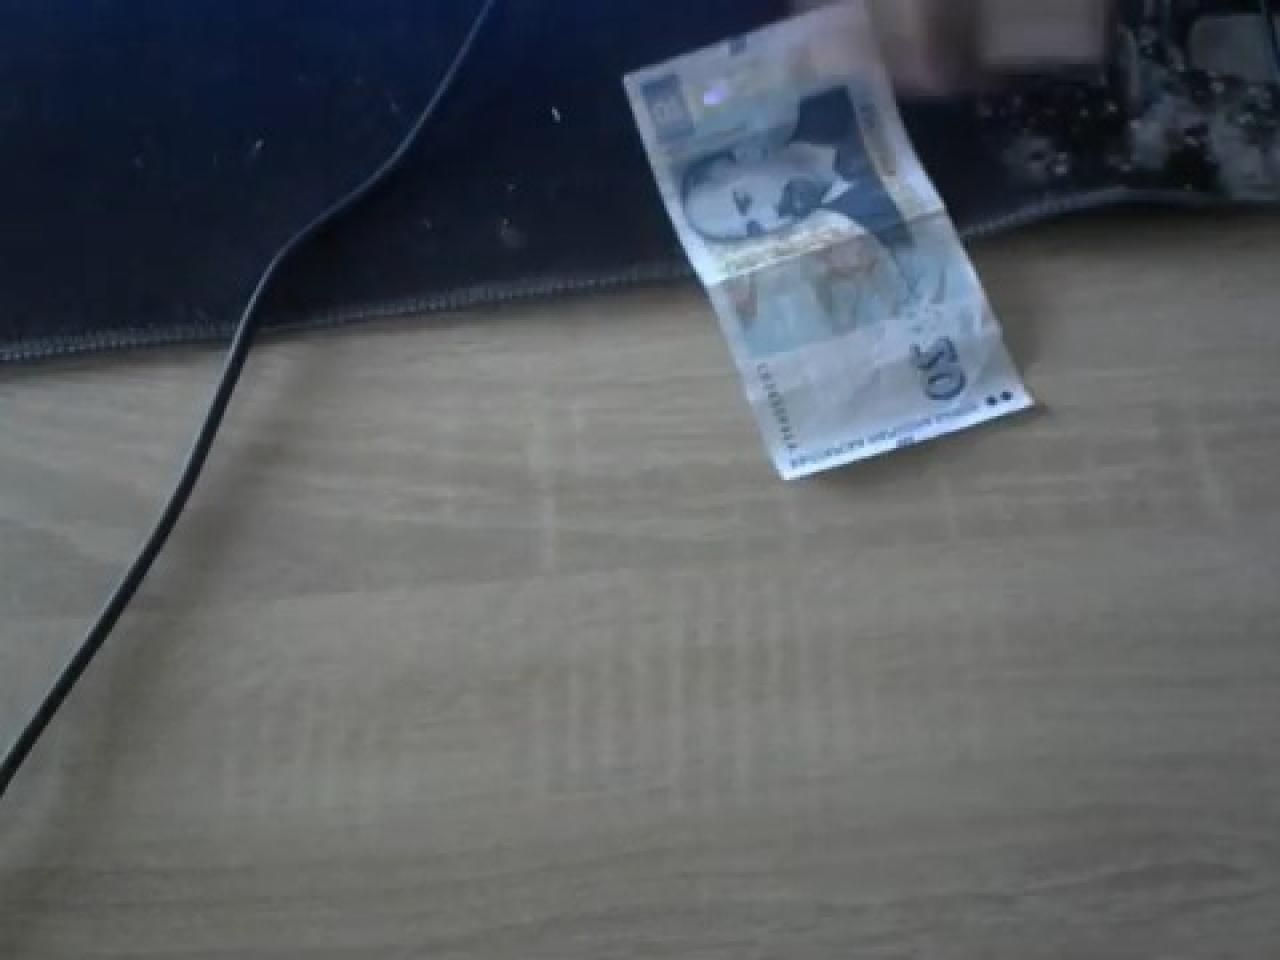20leva: (621, 3, 1040, 485)
